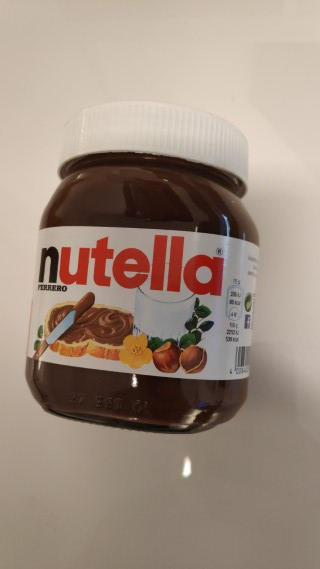nutella: (22, 98, 263, 436)
